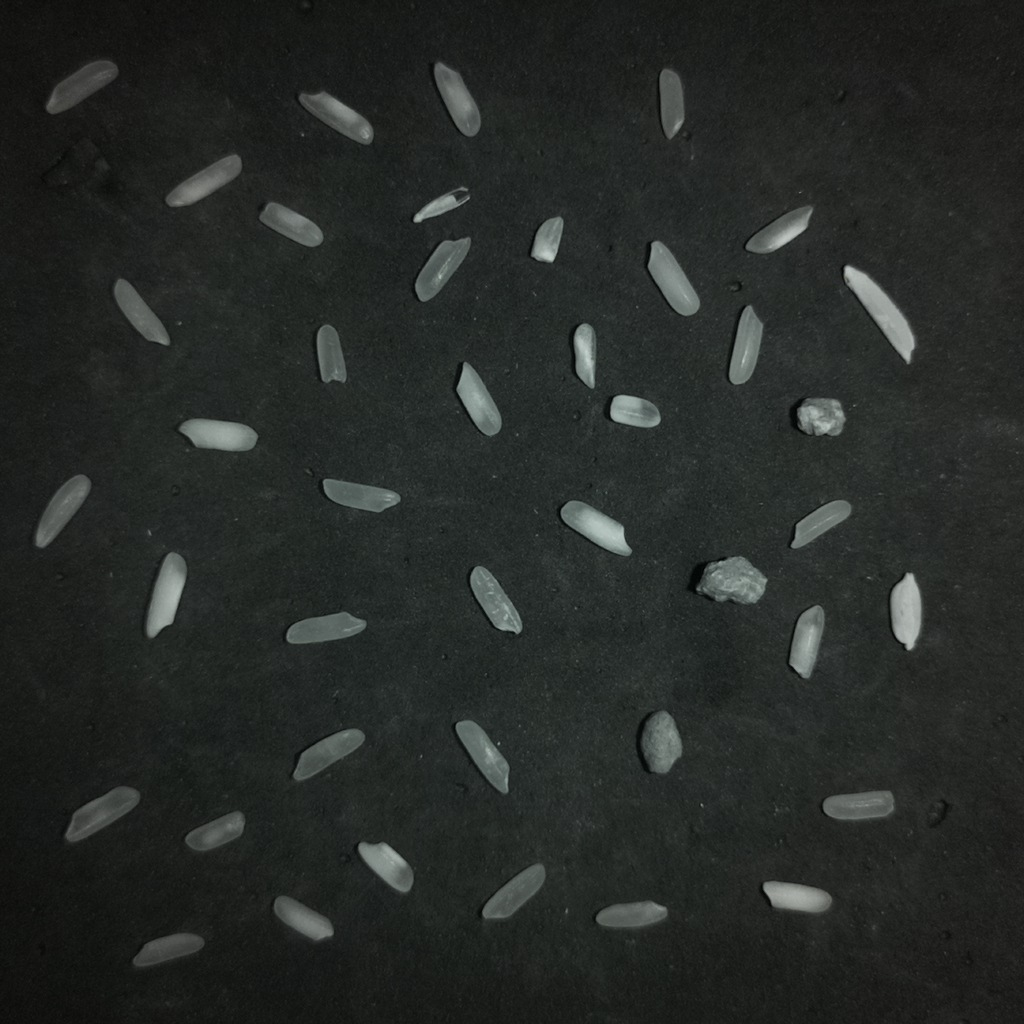broken: (273, 896, 333, 941), (789, 605, 824, 678), (184, 810, 244, 851), (133, 933, 203, 965), (596, 900, 667, 928), (316, 324, 347, 383), (659, 68, 684, 139), (531, 216, 563, 262)
chalky: (165, 154, 241, 207), (560, 500, 631, 555), (648, 241, 699, 315), (145, 552, 186, 638), (456, 362, 501, 435), (357, 842, 413, 893), (177, 418, 257, 451), (762, 881, 831, 913), (609, 395, 660, 427), (574, 323, 596, 388)
foreign: (844, 266, 914, 361), (696, 556, 766, 603), (640, 710, 682, 773), (890, 573, 921, 650), (413, 186, 468, 222), (797, 398, 845, 435)
whole: (64, 786, 140, 842), (34, 474, 90, 548), (298, 92, 373, 144), (455, 720, 508, 793), (45, 60, 118, 113), (113, 279, 169, 345), (292, 728, 363, 779), (414, 237, 470, 301), (481, 863, 545, 919), (433, 62, 480, 136), (470, 566, 521, 633), (745, 205, 813, 254), (790, 500, 851, 548), (259, 202, 323, 246), (322, 479, 400, 512), (729, 306, 762, 384), (287, 612, 364, 642), (823, 790, 893, 819)
